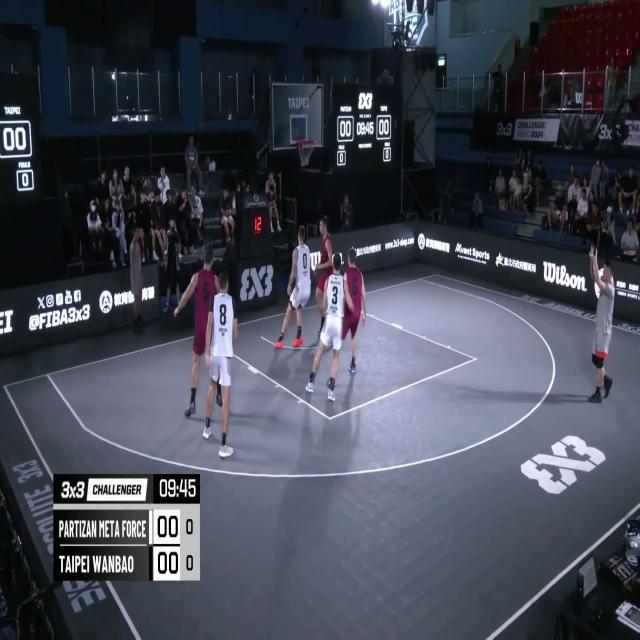hoop: (297, 136, 316, 166)
player: (176, 247, 221, 426), (307, 250, 355, 405), (205, 267, 238, 459), (328, 246, 368, 374), (275, 226, 311, 351), (312, 215, 334, 346)
